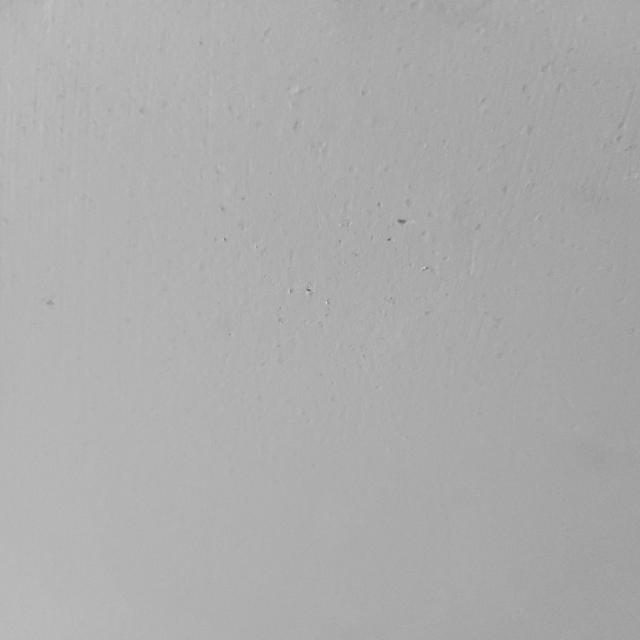rough and patchy surface: (4, 8, 640, 388)
